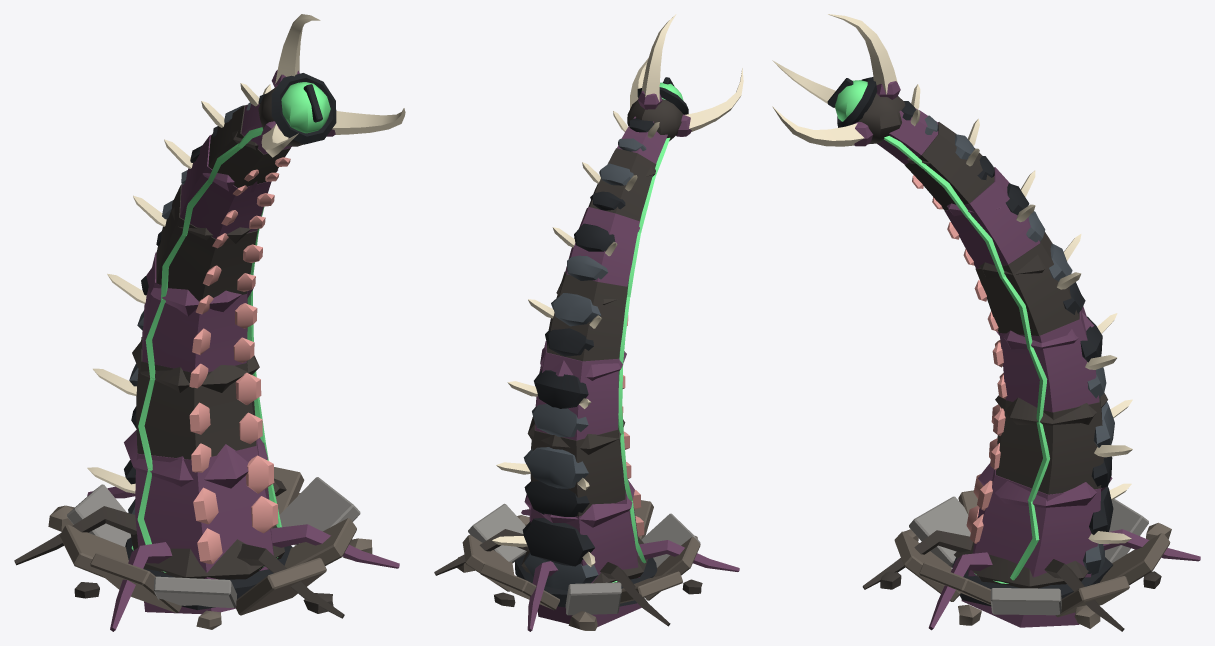
Rendered from Monster_SourceTendril.fbx.
The picture shows the model from 3 angles, left to right: view 1: azimuth 30°, elevation 25°; view 2: azimuth 150°, elevation 25°; view 3: azimuth 270°, elevation 25°; orthographic projection. The views are drawn at different scales.
Visible parts, largest first — view 1: Body, Seg1, Seg2, Seg3, Seg4, Seg5, Seg6, Tip, EyeGlow, Hook3, Hook1, Seg7 (+4 smaller); view 2: Body, Seg1, Seg2, Seg3, Seg4, Seg5, Seg6, Tip, Seg7, Hook1, Hook2; view 3: Body, Seg1, Seg2, Seg3, Seg4, Seg5, Seg6, Tip, Seg7, Hook1, Hook3, EyeGlow (+2 smaller).
Part boxes in pixels (x1=…): Body: x1=14, y1=467, x2=399, y2=631; Seg1: x1=87, y1=440, x2=284, y2=614; Seg2: x1=93, y1=337, x2=267, y2=488; Seg3: x1=107, y1=252, x2=259, y2=392; Seg4: x1=133, y1=184, x2=262, y2=316; Seg5: x1=164, y1=135, x2=274, y2=248; Seg6: x1=201, y1=84, x2=290, y2=195; Tip: x1=258, y1=73, x2=336, y2=146; EyeGlow: x1=281, y1=82, x2=330, y2=133; Hook3: x1=327, y1=108, x2=405, y2=136; Hook1: x1=271, y1=14, x2=320, y2=87; Seg7: x1=232, y1=83, x2=291, y2=154; Body: x1=434, y1=500, x2=739, y2=631; Seg1: x1=492, y1=490, x2=647, y2=626; Seg2: x1=496, y1=425, x2=634, y2=527; Seg3: x1=507, y1=341, x2=625, y2=454; Seg4: x1=528, y1=272, x2=628, y2=380; Seg5: x1=552, y1=207, x2=639, y2=304; Seg6: x1=580, y1=148, x2=656, y2=231; Tip: x1=627, y1=77, x2=688, y2=141; Seg7: x1=613, y1=111, x2=667, y2=176; Hook1: x1=638, y1=14, x2=676, y2=109; Hook2: x1=676, y1=68, x2=743, y2=136; Body: x1=862, y1=490, x2=1200, y2=631; Seg1: x1=954, y1=469, x2=1131, y2=627; Seg2: x1=978, y1=397, x2=1132, y2=507; Seg3: x1=992, y1=306, x2=1117, y2=425; Seg4: x1=974, y1=231, x2=1094, y2=350; Seg5: x1=944, y1=167, x2=1045, y2=278; Seg6: x1=905, y1=119, x2=1000, y2=216; Tip: x1=827, y1=77, x2=905, y2=144; Seg7: x1=877, y1=84, x2=938, y2=165; Hook1: x1=828, y1=14, x2=900, y2=99; Hook3: x1=772, y1=106, x2=872, y2=146; EyeGlow: x1=835, y1=80, x2=867, y2=121.
Size of the model in its own units: 5.51 by 12.1 by 7.88.
